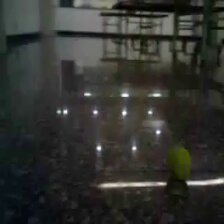tennis: (164, 147, 193, 182)
